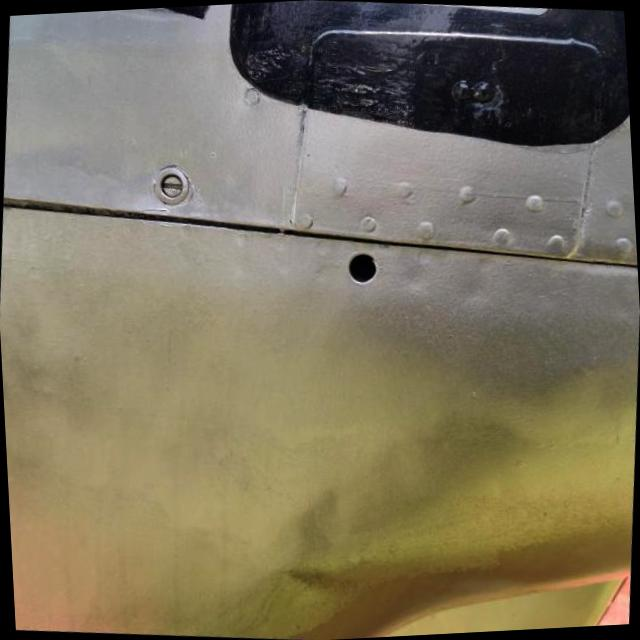Missing Fastener: (348, 251, 378, 282)
